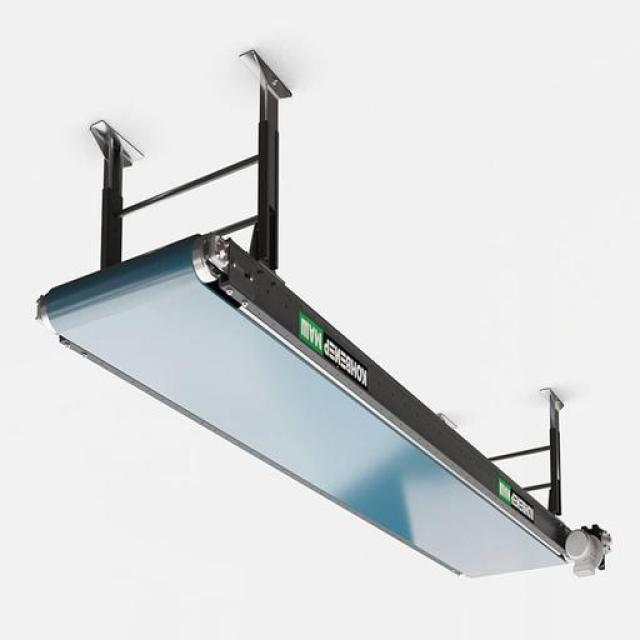conveyor: (35, 237, 565, 579)
